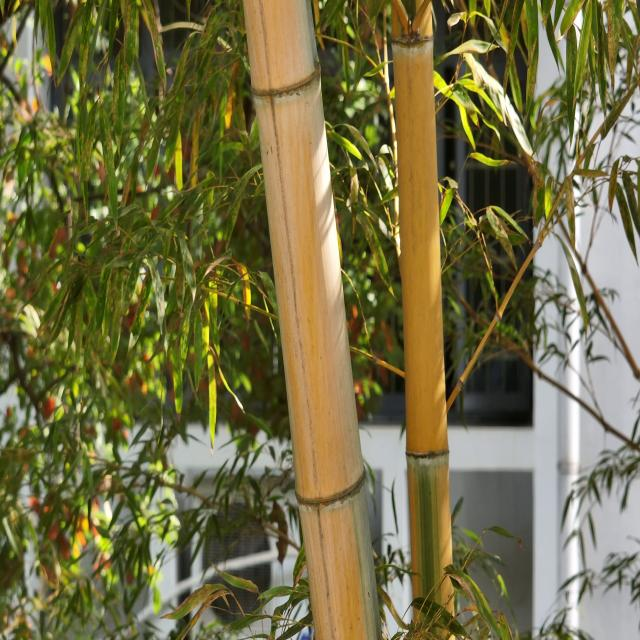Bamboo-shoots: (242, 0, 381, 640), (393, 0, 455, 640)
